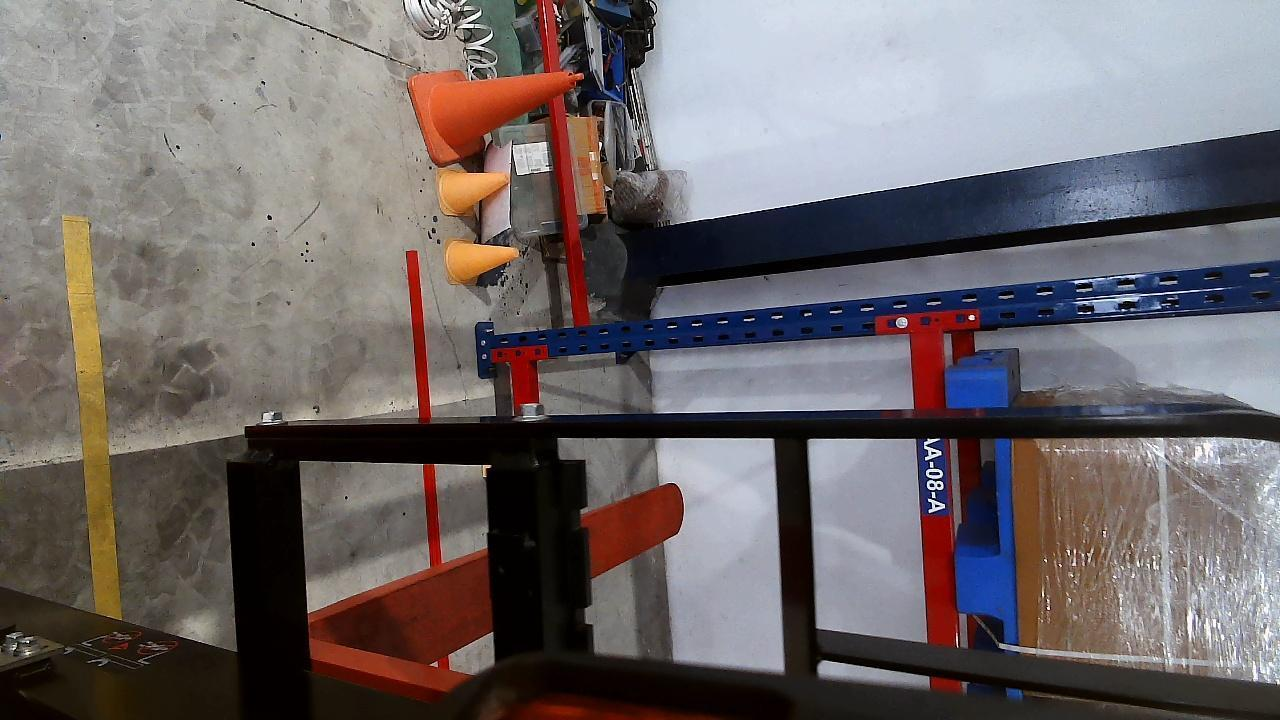red_line: (404, 249, 444, 563)
yellow_line: (58, 214, 120, 617)
